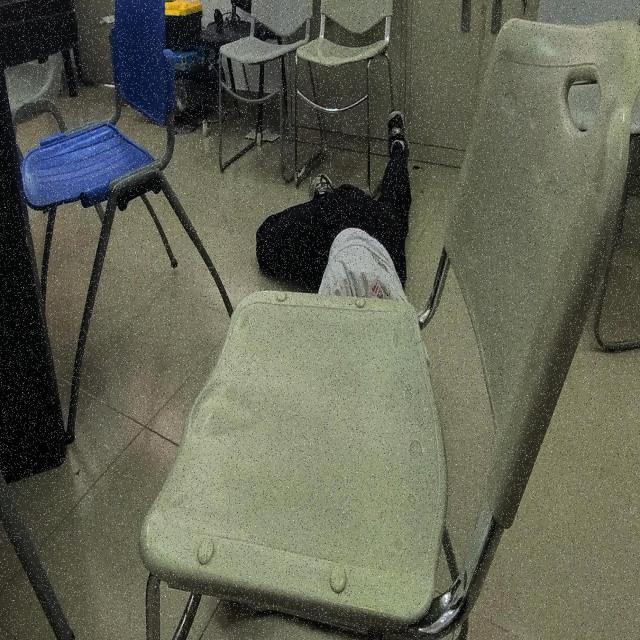fall: (254, 105, 413, 308)
